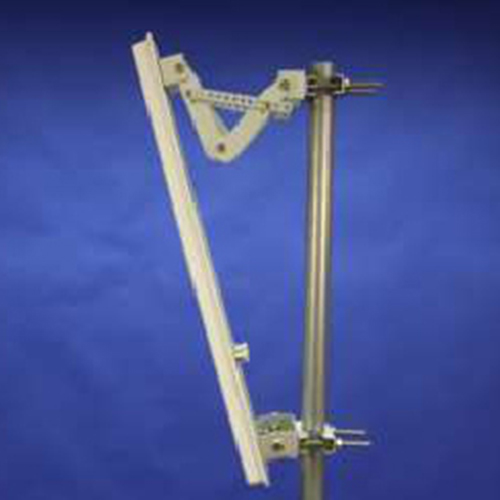sa: (108, 26, 349, 473)
